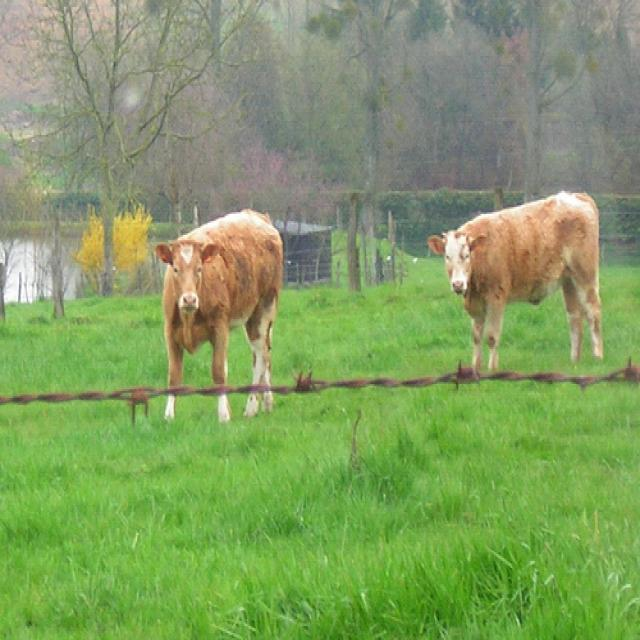cow: (426, 186, 608, 380), (154, 207, 282, 419)
